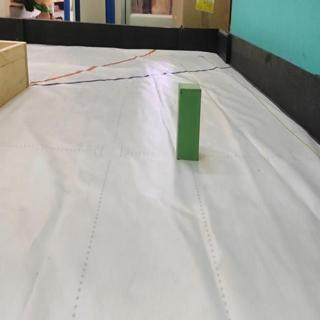greenbox: (177, 81, 201, 160)
